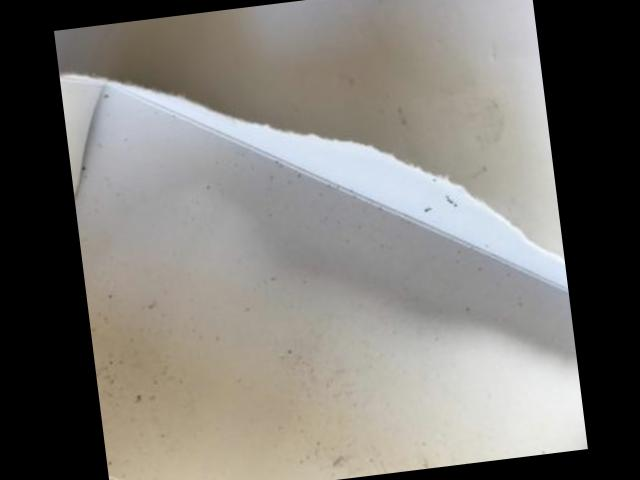cardboard paper: (58, 77, 587, 480)
